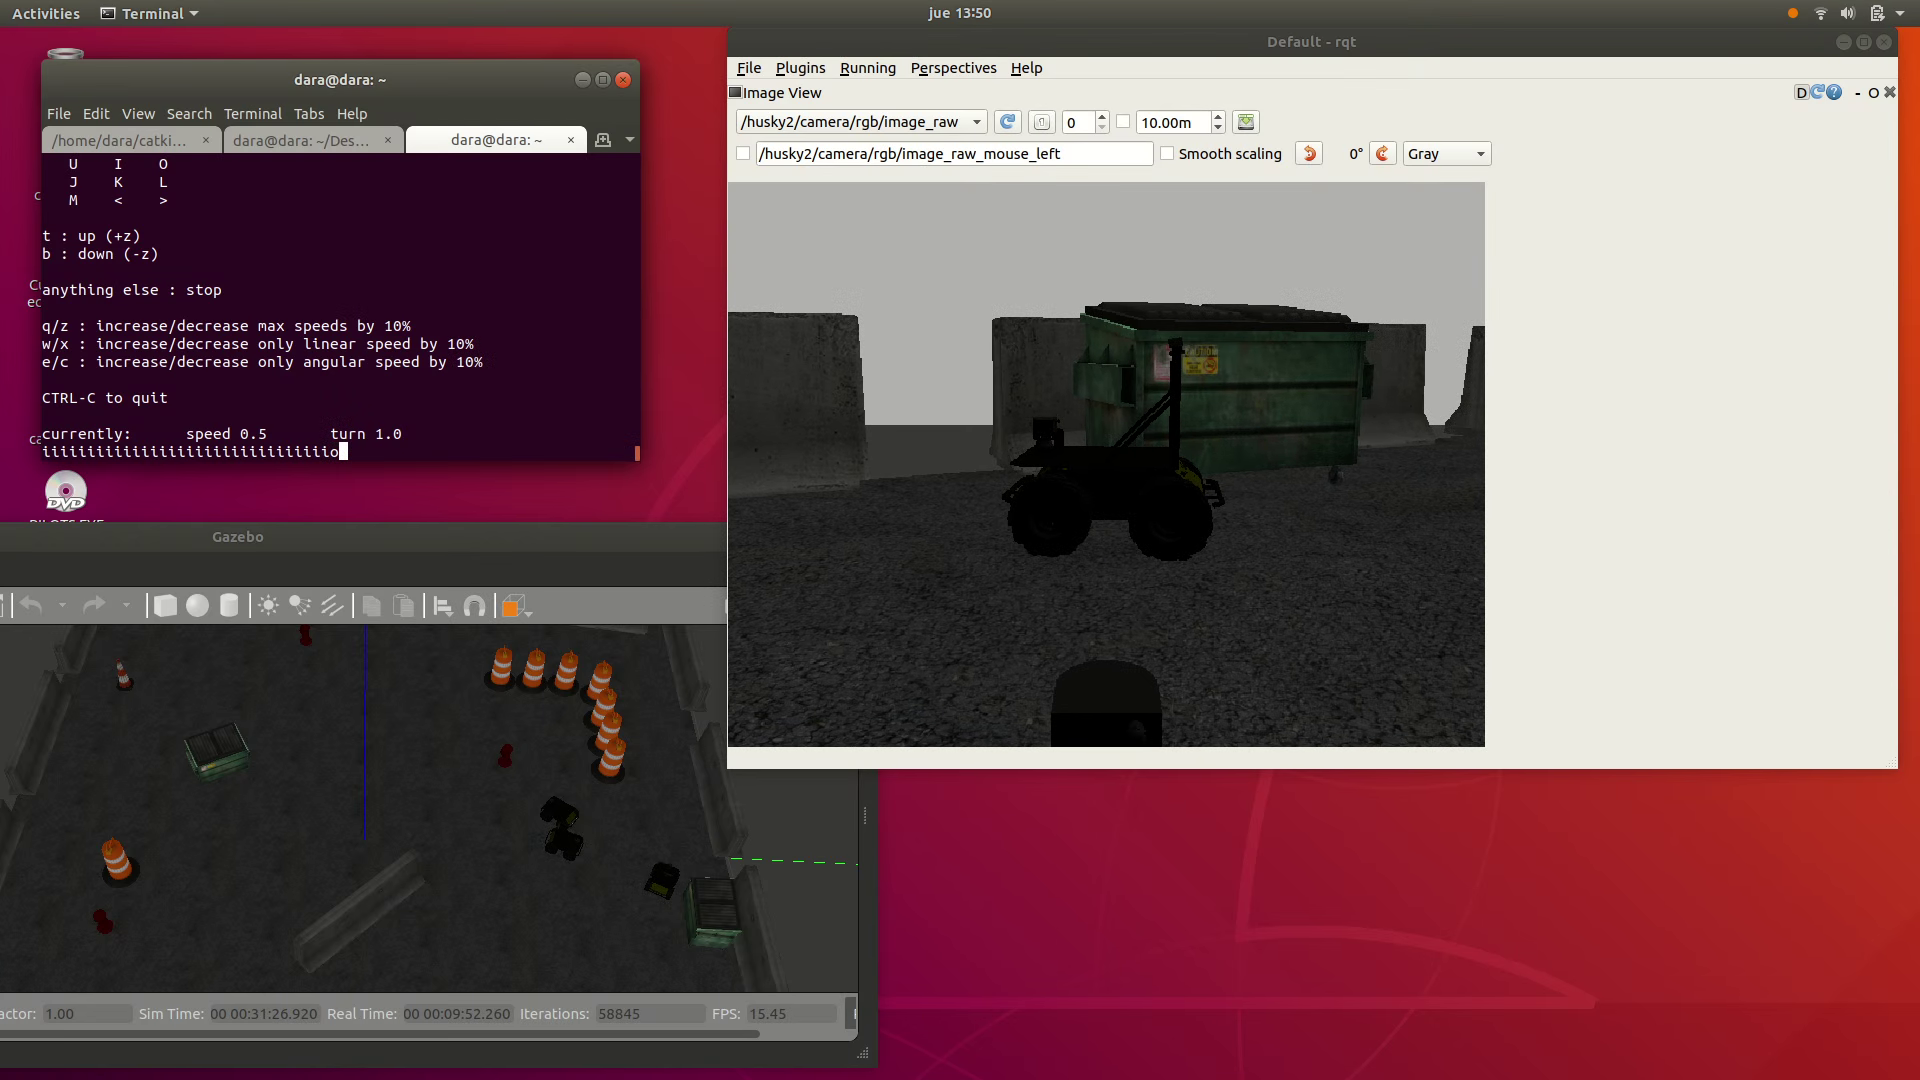husky: (1002, 445, 1226, 562), (643, 862, 680, 900), (540, 796, 580, 830), (544, 829, 584, 861)
